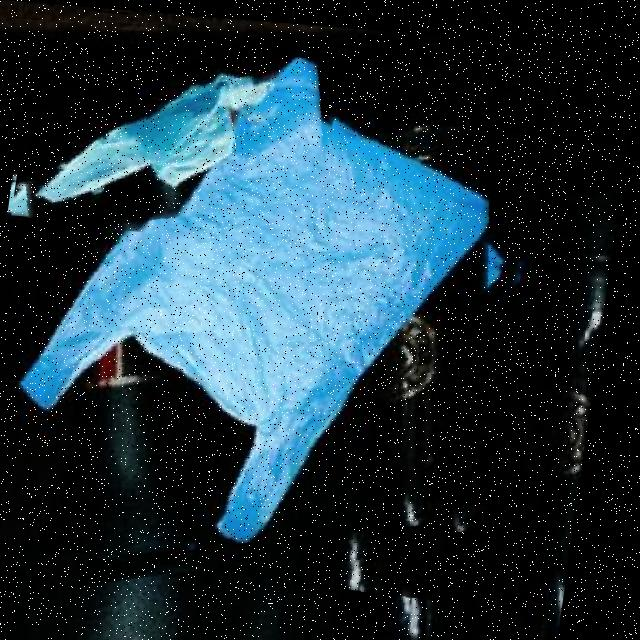litter: (0, 35, 569, 596), (16, 36, 346, 249)
